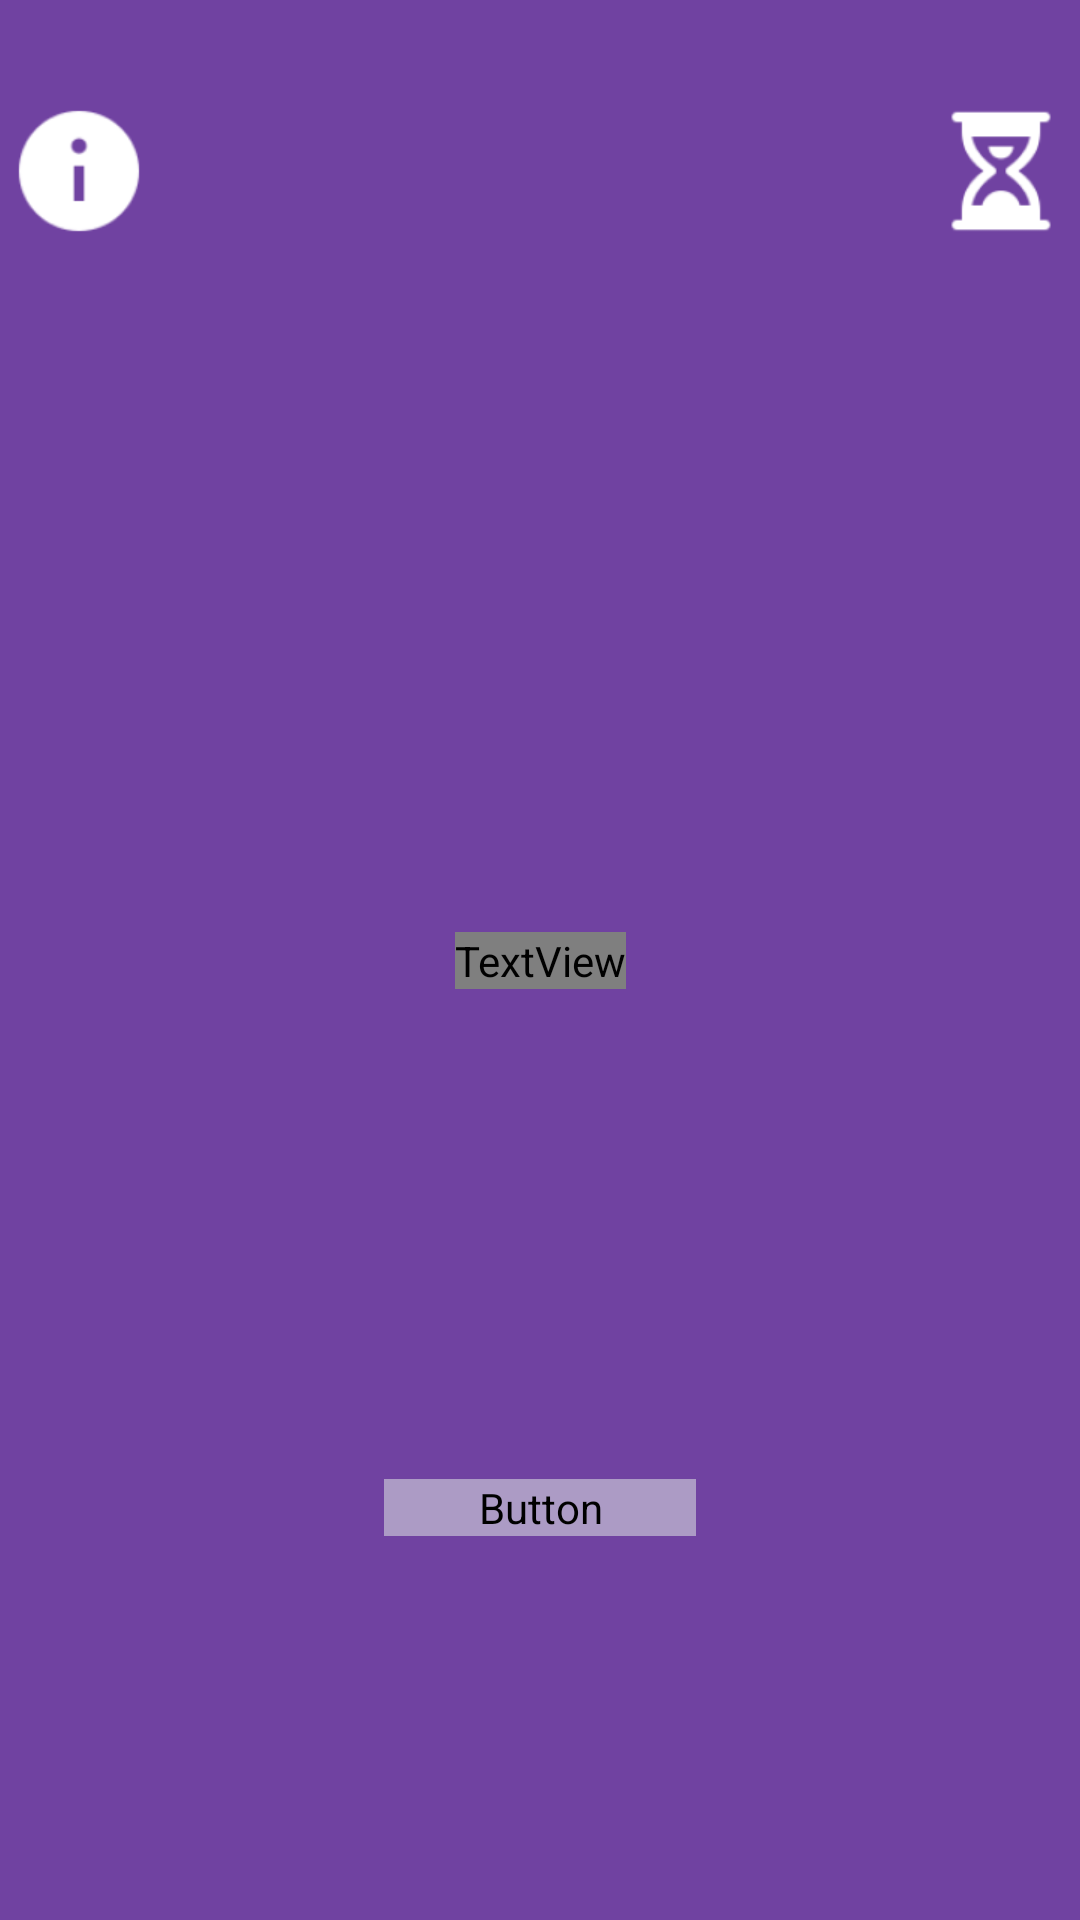

Icons on this 1080*1920 Android screen, each with its box as (x1, y1, x2, y2):
Botão Sobre: (18, 110, 140, 232)
